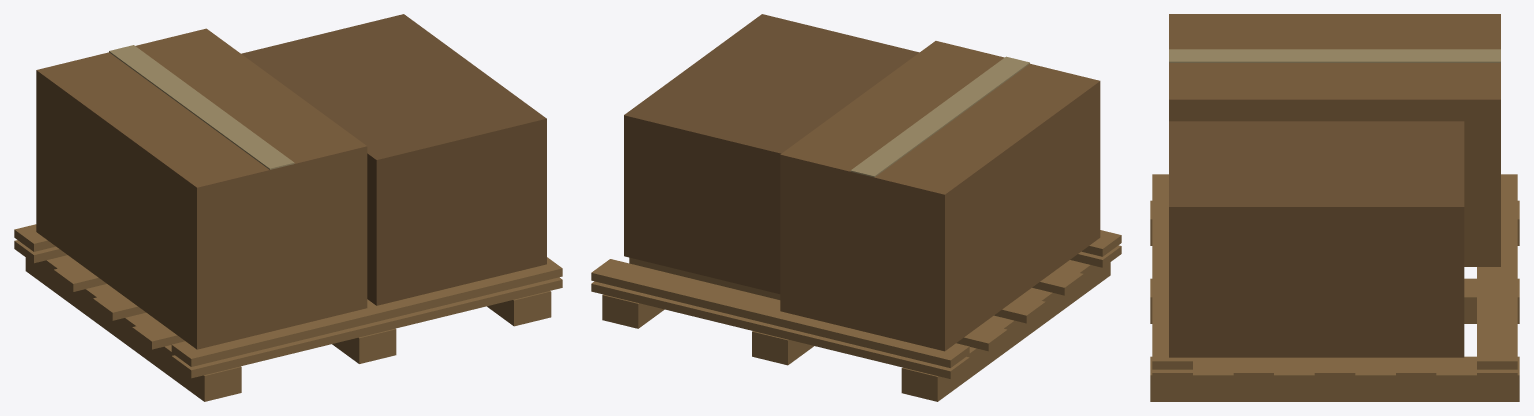
The model's file is pallet_stacked.glb.
3 views of the same model, side by side, from view 1: azimuth 30°, elevation 25°; view 2: azimuth 150°, elevation 25°; view 3: azimuth 270°, elevation 25° (orthographic). The views are drawn at different scales.
Visible parts, largest first — view 1: pallet_stacked; view 2: pallet_stacked; view 3: pallet_stacked.
Boxes of the visible parts, x1,y1,x2,y2 form: pallet_stacked: (14,14,562,401); pallet_stacked: (591,14,1121,401); pallet_stacked: (1150,14,1519,401).
Size of the model in its own units: 1.2 by 0.644 by 1.
